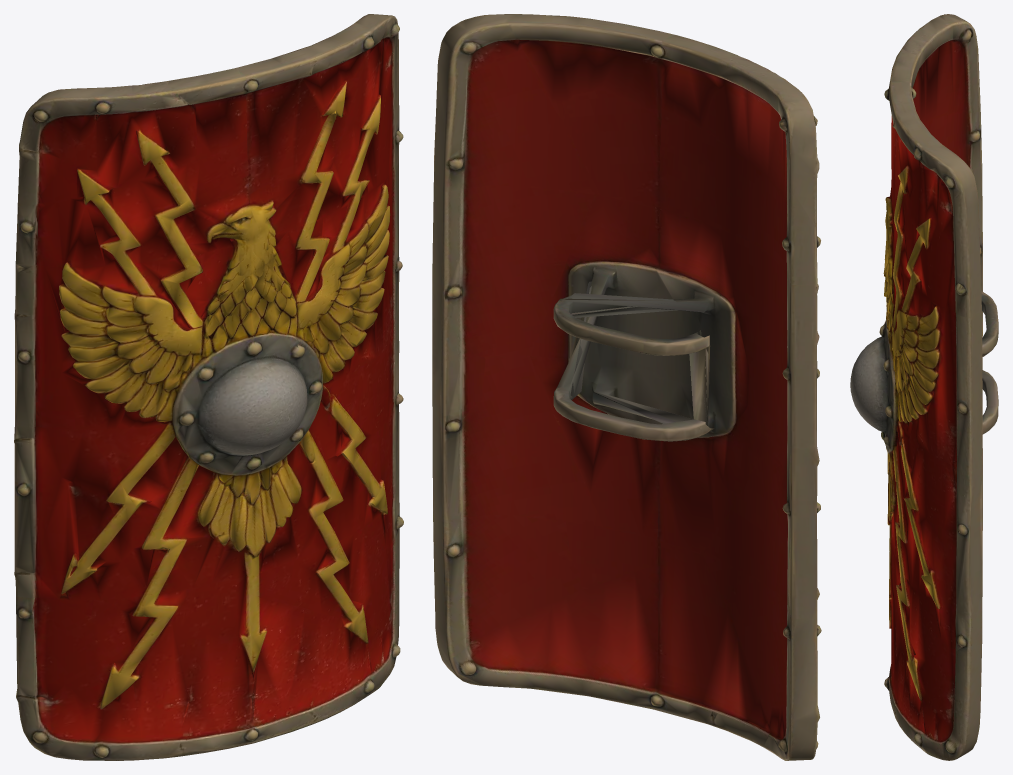
Rendered from scutum.glb.
The picture shows the model from 3 angles, left to right: view 1: azimuth 30°, elevation 25°; view 2: azimuth 150°, elevation 25°; view 3: azimuth 270°, elevation 25°; orthographic projection. The views are drawn at different scales.
Visible parts, largest first — view 1: tripo_node_d34e0232-3819-4404-9eaa-9dedb89e5c7a; view 2: tripo_node_d34e0232-3819-4404-9eaa-9dedb89e5c7a; view 3: tripo_node_d34e0232-3819-4404-9eaa-9dedb89e5c7a.
Part boxes in pixels (x1=…): tripo_node_d34e0232-3819-4404-9eaa-9dedb89e5c7a: x1=14, y1=14, x2=403, y2=760; tripo_node_d34e0232-3819-4404-9eaa-9dedb89e5c7a: x1=432, y1=14, x2=821, y2=760; tripo_node_d34e0232-3819-4404-9eaa-9dedb89e5c7a: x1=850, y1=14, x2=998, y2=760.
Bounding box in the file's own units: 0.6022 × 0.9998 × 0.221.
Materials: 1 (1 with a texture image).
